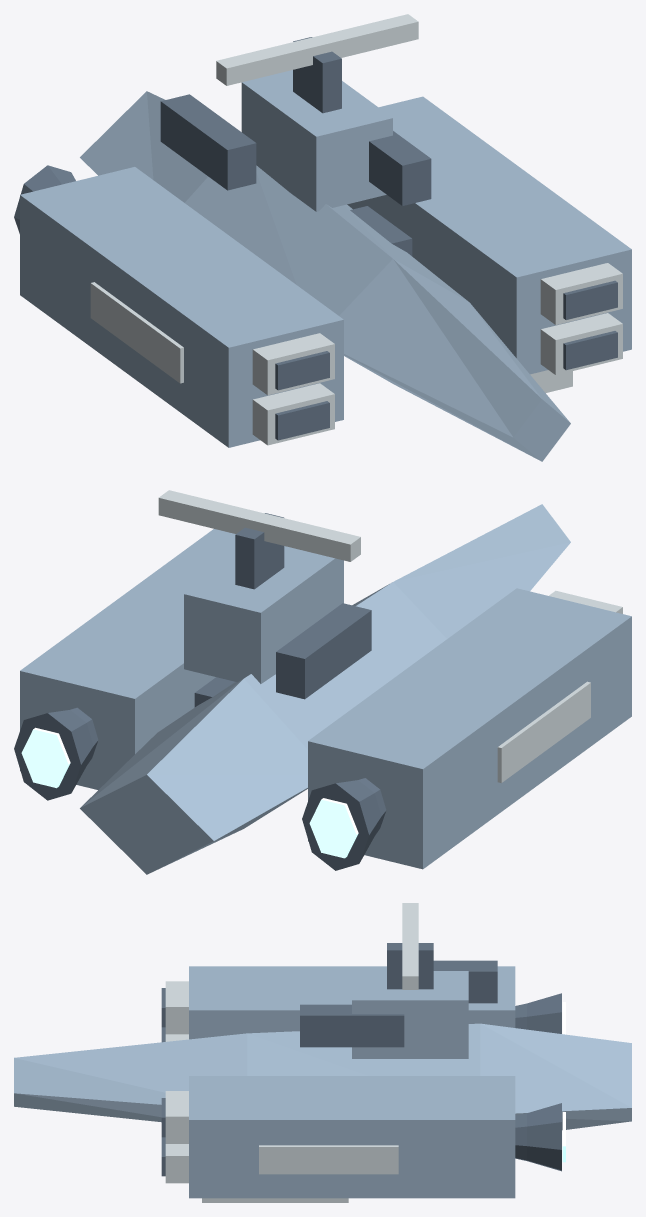
3 views of the same model, one above another, from view 1: azimuth 30°, elevation 25°; view 2: azimuth 150°, elevation 25°; view 3: azimuth 270°, elevation 25° (orthographic). The views are drawn at different scales.
Bounding box in the file's own units: 8.52 × 5.5 × 14.21.
